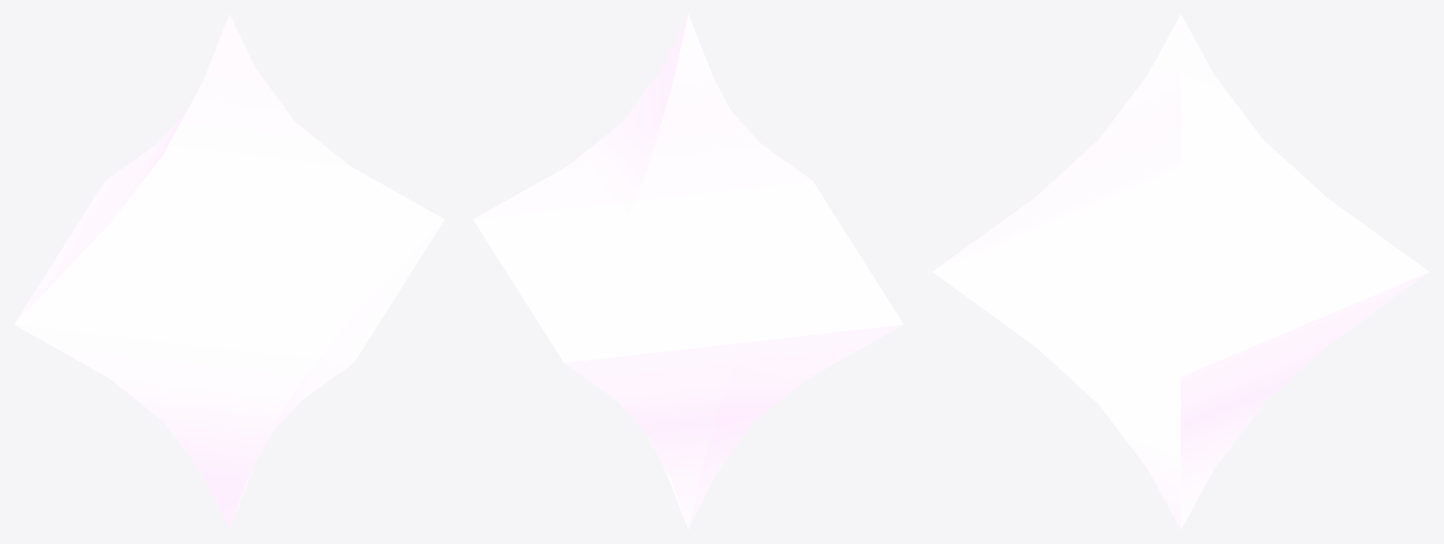
File: PlumbobPlayer.fbx
The picture shows the model from 3 angles, left to right: view 1: azimuth 30°, elevation 25°; view 2: azimuth 150°, elevation 25°; view 3: azimuth 270°, elevation 25°; orthographic projection.
Visible parts, largest first — view 1: PlumbobPlayer; view 2: PlumbobPlayer; view 3: PlumbobPlayer.
Boxes of the visible parts, x1=… form: PlumbobPlayer: x1=14, y1=14, x2=444, y2=529; PlumbobPlayer: x1=473, y1=14, x2=903, y2=529; PlumbobPlayer: x1=932, y1=14, x2=1429, y2=529.
Bounding box in the file's own units: 27.53 × 31.51 × 27.53.
